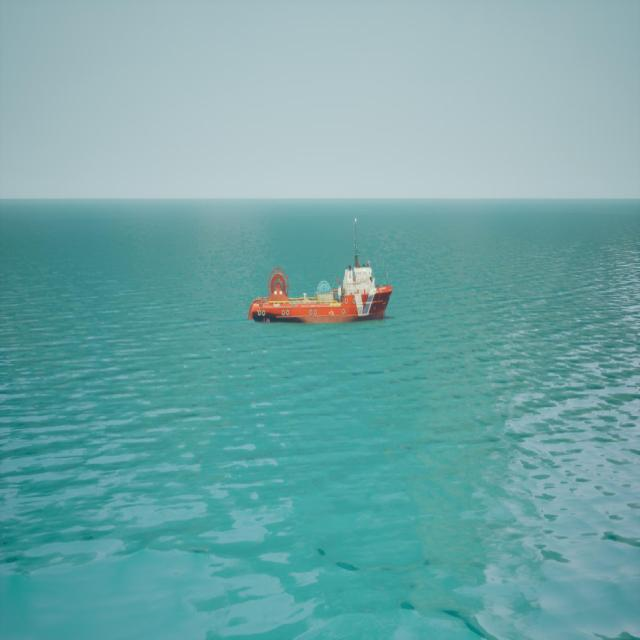tug boat: (250, 259, 395, 327)
